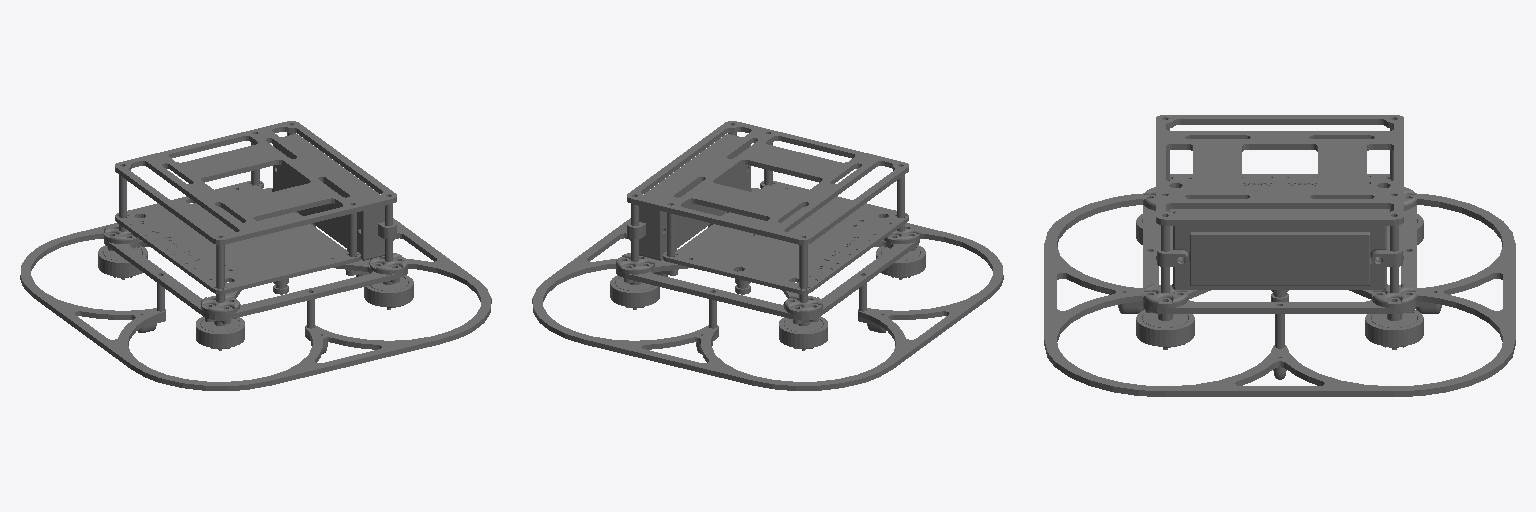
The robot description file, URDF, robot "ge_fpv":
<?xml version="1.0" ?>

<robot name="ge_fpv">

  <properties arm="0.0397" kf="3.16e-10" km="7.94e-12" thrust2weight="2.25" max_speed_kmh="30" gnd_eff_coeff="11.36859" prop_radius="2.31348e-2" drag_coeff_xy="9.1785e-7" drag_coeff_z="10.311e-7" dw_coeff_1="2267.18" dw_coeff_2=".16" dw_coeff_3="-.11" />

  <link name="base_link"> 

    <inertial>
      <origin rpy="0 0 0" xyz="0 0 0"/>
      <mass value="0.33"/>
      <inertia ixx="1.4e-5" ixy="0.0" ixz="0.0" iyy="1.4e-5" iyz="0.0" izz="2.17e-5"/>
    </inertial>

    <!-- links>
      <carlos url="https://arxiv.org/pdf/1608.05786.pdf" />
      <julian url="https://www.research-collection.ethz.ch/handle/20.500.11850/214143" />
      <mit url="http://groups.csail.mit.edu/robotics-center/public_papers/Landry15.pdf" />
    </links -->

    <visual>
      <origin rpy="0 0 0" xyz="0 0 0"/>
      <geometry>
        <mesh filename="ge_fpv.obj" scale="0.001 0.001 0.001"/>
      </geometry> 
      <material name="ge_fpv_color">
        <color rgba=".5 .5 .5 1"/>
      </material> 
    </visual>

    <collision>
      <origin rpy="0 0 0" xyz="0 0 0"/>
      <geometry>
        <cylinder radius=".06" length=".025"/>
      </geometry>
    </collision>  

  </link>

  <link name="prop0_link">
    <inertial>
      <origin rpy="0 0 0" xyz="0.028 -0.028 0"/>
      <mass value="0"/>
      <inertia ixx="0" ixy="0" ixz="0" iyy="0" iyz="0" izz="0"/>
    </inertial>

  </link>
  <joint name="prop0_joint" type="fixed">
    <parent link="base_link"/>
    <child link="prop0_link"/>
  </joint>

  <link name="prop1_link">
    <inertial>
      <origin rpy="0 0 0" xyz="-0.028 -0.028 0"/>
      <mass value="0"/>
      <inertia ixx="0" ixy="0" ixz="0" iyy="0" iyz="0" izz="0"/>
    </inertial>
  </link>
  <joint name="prop1_joint" type="fixed">
    <parent link="base_link"/>
    <child link="prop1_link"/>
  </joint>

  <link name="prop2_link">
    <inertial>
      <origin rpy="0 0 0" xyz="-0.028 0.028 0"/>
      <mass value="0"/>
      <inertia ixx="0" ixy="0" ixz="0" iyy="0" iyz="0" izz="0"/>
    </inertial>
  </link>
  <joint name="prop2_joint" type="fixed">
    <parent link="base_link"/>
    <child link="prop2_link"/>
  </joint>

  <link name="prop3_link">
    <inertial>
      <origin rpy="0 0 0" xyz="0.028 0.028 0"/>
      <mass value="0"/>
      <inertia ixx="0" ixy="0" ixz="0" iyy="0" iyz="0" izz="0"/>
    </inertial>
  </link>
  <joint name="prop3_joint" type="fixed">
    <parent link="base_link"/>
    <child link="prop3_link"/>
  </joint>

  <link name="center_of_mass_link">
    <inertial>
      <origin rpy="0 0 0" xyz="0 0 0"/>
      <mass value="0"/>
      <inertia ixx="0" ixy="0" ixz="0" iyy="0" iyz="0" izz="0"/>
    </inertial>
  </link>
  <joint name="center_of_mass_joint" type="fixed">
    <parent link="base_link"/>
    <child link="center_of_mass_link"/>
  </joint>

</robot>

--- Facts derived from the render (not from the file) ---
The picture shows the robot from 3 angles, left to right: view 1: azimuth 30°, elevation 25°; view 2: azimuth 150°, elevation 25°; view 3: azimuth 270°, elevation 25°; orthographic projection.
Model ge_fpv with 6 links and 5 joints (5 fixed), rooted at base_link, posed all joints at 0.
Links seen in each view (by area): view 1: base_link; view 2: base_link; view 3: base_link.
Boxes of the visible links, box(x1,y1,x2,y2) form: base_link: box(20, 121, 491, 390); base_link: box(532, 121, 1003, 390); base_link: box(1044, 115, 1515, 396).
Bounding box of the posed robot: 0.144 × 0.144 × 0.0491 m (x, y, z).
1 mesh visuals loaded from 1 distinct referenced files (1 OBJ).
